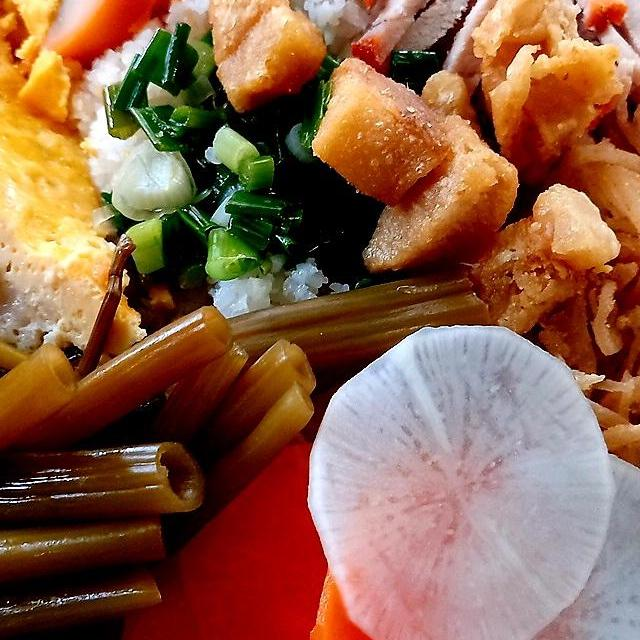bi: (488, 34, 640, 640)
com: (55, 0, 379, 343)
dua chua: (106, 265, 640, 640), (0, 260, 242, 640)
suon: (80, 0, 640, 131)
trung: (0, 0, 127, 409), (0, 0, 214, 91)
